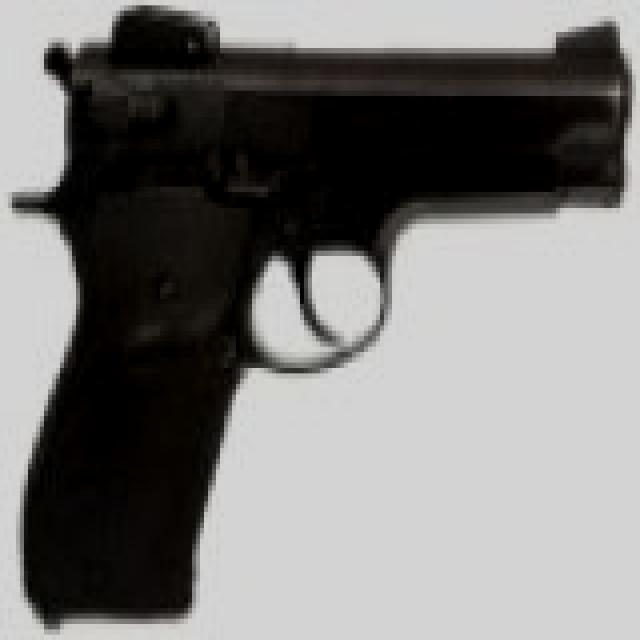pistol: (36, 6, 632, 614)
